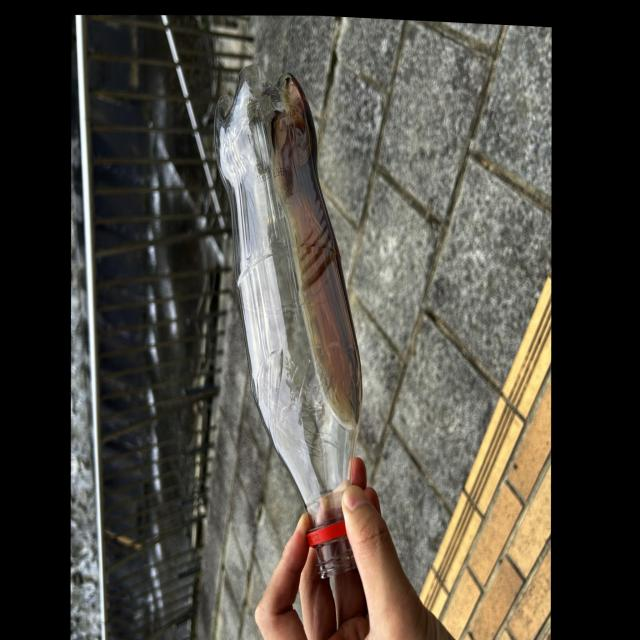low: (215, 65, 362, 577)
